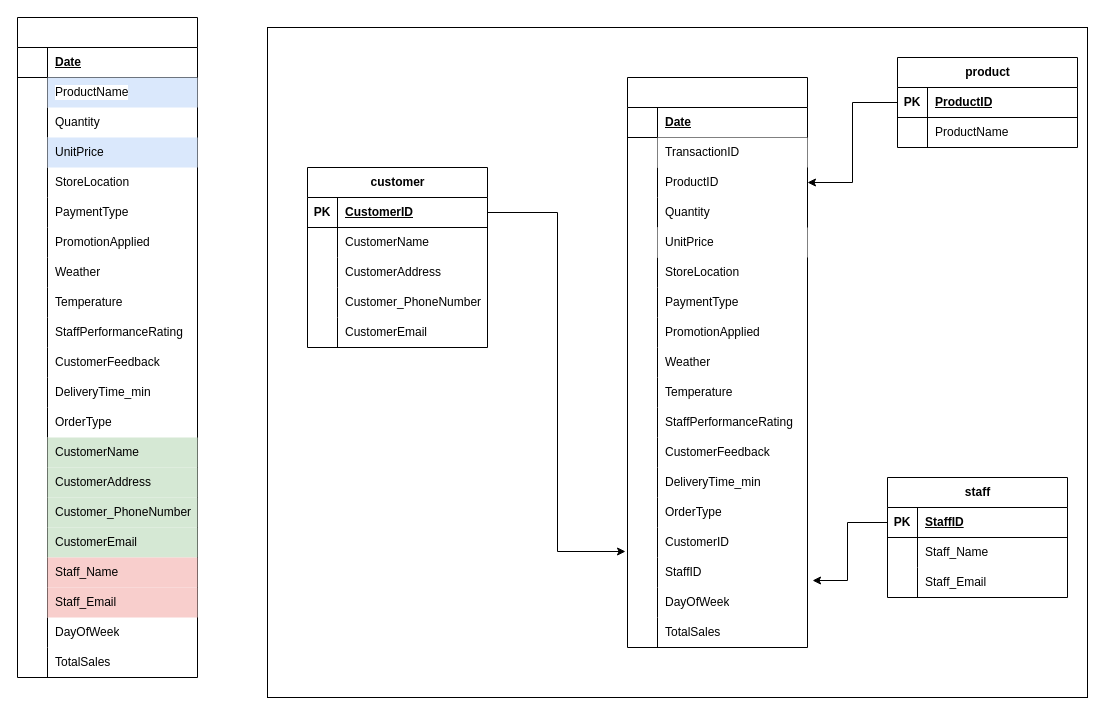
Some shapes in this 1105 by 715 pixel diagram are drawn without their labels. The box of each missing label's shape, as (x1, y1, x2, y2) in pixels:
data: (16, 16, 198, 678)
transactions: (626, 76, 808, 648)
